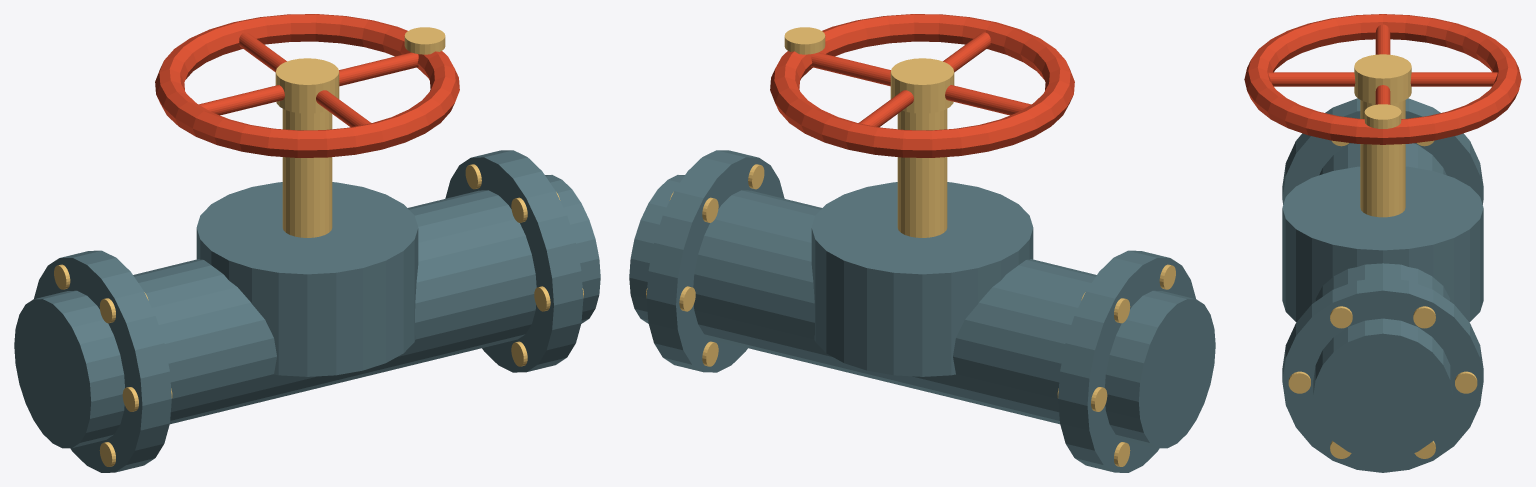
Rendered from valve.glb.
The picture shows the model from 3 angles, left to right: view 1: azimuth 30°, elevation 25°; view 2: azimuth 150°, elevation 25°; view 3: azimuth 270°, elevation 25°; orthographic projection. The views are drawn at different scales.
Parts seen in each view (by area): view 1: Pipe, ValveBody, WheelRim, Flange.001, Flange, Stem, Hub, Spoke, Spoke.002, WheelPositionMarker, Spoke.003, Spoke.001; view 2: Pipe, ValveBody, WheelRim, Flange.001, Flange, Stem, Hub, Spoke, Spoke.002, WheelPositionMarker, Spoke.001, Spoke.003; view 3: ValveBody, Pipe, WheelRim, Flange.001, Flange, Stem, Hub, Spoke.001, Spoke.003, WheelPositionMarker, Spoke.002, Bolt.008 (+3 smaller).
Boxes of the visible parts, x1,y1,x2,y2 form: Pipe: (14,175,600,448); ValveBody: (196,182,418,376); WheelRim: (155,14,459,157); Flange.001: (445,150,583,372); Flange: (34,250,171,472); Stem: (282,109,332,237); Hub: (275,58,339,113); Spoke: (339,52,418,86); Spoke.002: (199,85,284,115); WheelPositionMarker: (404,27,445,54); Spoke.003: (316,90,371,127); Spoke.001: (239,32,286,72); Pipe: (629,175,1215,448); ValveBody: (811,182,1033,376); WheelRim: (770,14,1074,157); Flange.001: (646,150,784,372); Flange: (1058,250,1195,472); Stem: (897,109,947,237); Hub: (890,58,954,113); Spoke: (811,52,890,86); Spoke.002: (945,85,1030,115); WheelPositionMarker: (784,27,825,54); Spoke.001: (858,90,913,127); Spoke.003: (943,32,990,72); ValveBody: (1282,166,1483,322); Pipe: (1313,143,1452,460); WheelRim: (1244,14,1521,144); Flange.001: (1282,277,1483,472); Flange: (1282,98,1483,204); Stem: (1360,100,1405,217); Hub: (1354,54,1411,104); Spoke.001: (1410,72,1497,86); Spoke.003: (1268,72,1355,86); WheelPositionMarker: (1364,104,1401,128); Spoke.002: (1375,24,1390,54); Bolt.008: (1413,306,1435,328).
Bounding box in the file's own units: 2.6 × 1.7 × 1.35.
